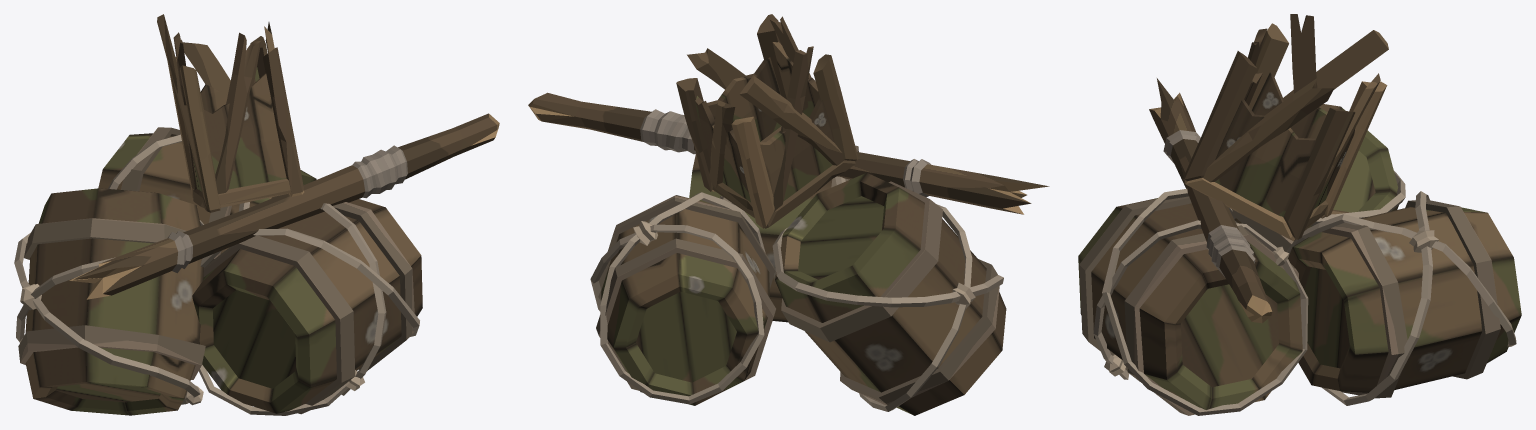
The model's file is SM_Prop_Junk_Pile_01.fbx.
The picture shows the model from 3 angles, left to right: view 1: azimuth 30°, elevation 25°; view 2: azimuth 150°, elevation 25°; view 3: azimuth 270°, elevation 25°; orthographic projection. The views are drawn at different scales.
Visible parts, largest first — view 1: SM_Prop_Junk_Pile_01; view 2: SM_Prop_Junk_Pile_01; view 3: SM_Prop_Junk_Pile_01.
Boxes of the visible parts, <box> form: SM_Prop_Junk_Pile_01: <box>14,14,499,415</box>; SM_Prop_Junk_Pile_01: <box>528,14,1049,415</box>; SM_Prop_Junk_Pile_01: <box>1078,14,1521,415</box>.
Bounding box in the file's own units: 293 × 211 × 228.
